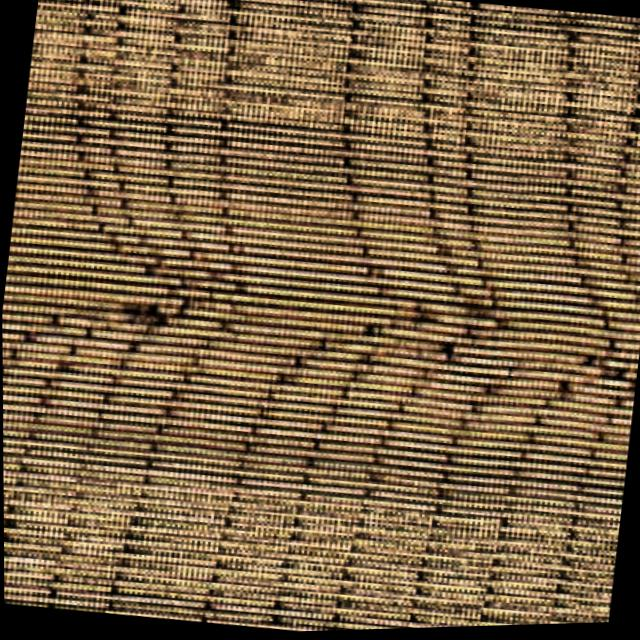Stitch: (1, 105, 273, 449)
